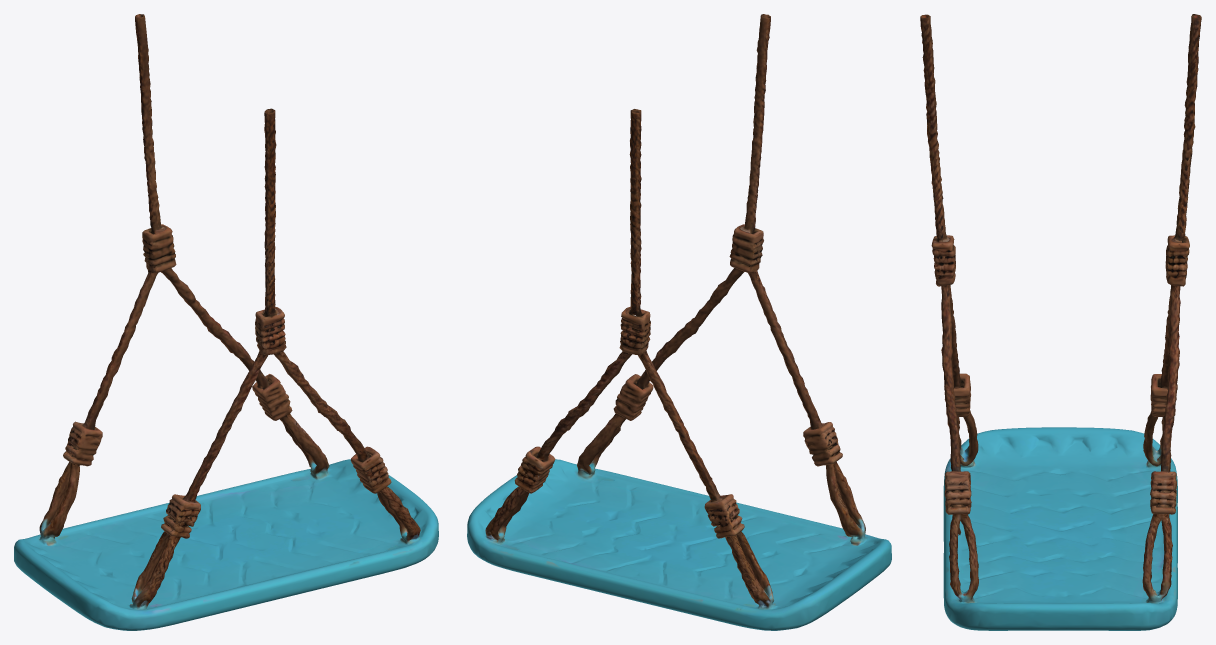
File: topogan simplu.glb
The picture shows the model from 3 angles, left to right: view 1: azimuth 30°, elevation 25°; view 2: azimuth 150°, elevation 25°; view 3: azimuth 270°, elevation 25°; orthographic projection. The views are drawn at different scales.
Visible parts, largest first — view 1: tripo_node_091fc064-c20b-4a97-8546-5d4677ff0f5f; view 2: tripo_node_091fc064-c20b-4a97-8546-5d4677ff0f5f; view 3: tripo_node_091fc064-c20b-4a97-8546-5d4677ff0f5f.
Boxes of the visible parts, x1,y1,x2,y2 form: tripo_node_091fc064-c20b-4a97-8546-5d4677ff0f5f: (14, 14, 438, 630); tripo_node_091fc064-c20b-4a97-8546-5d4677ff0f5f: (467, 14, 891, 630); tripo_node_091fc064-c20b-4a97-8546-5d4677ff0f5f: (920, 14, 1201, 630).
Size of the model in its own units: 0.7465 by 0.9999 by 0.4872.
Materials: 1 (1 with a texture image).
